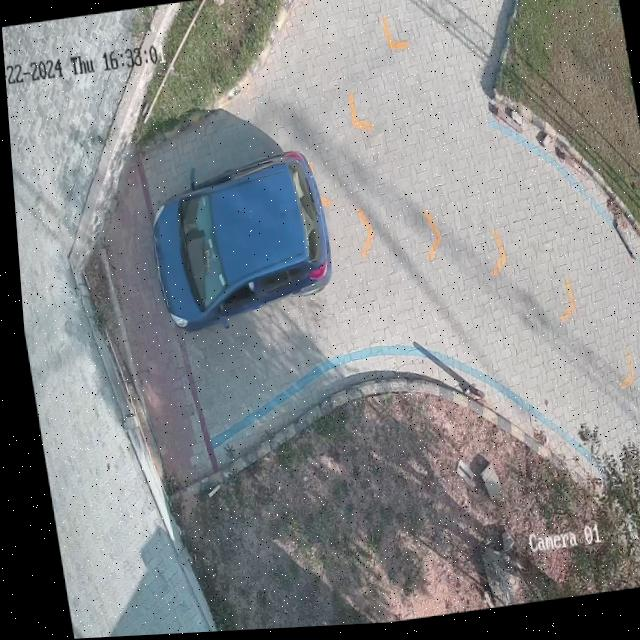car: (149, 153, 327, 333)
